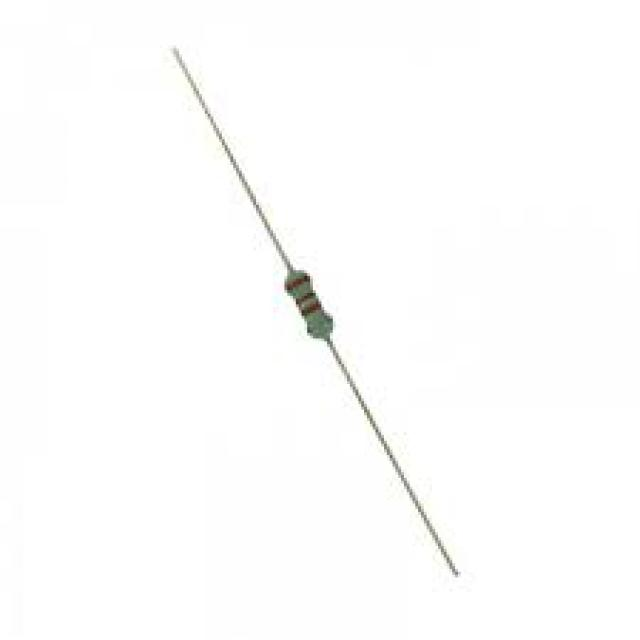Resistor: (283, 267, 335, 342)
